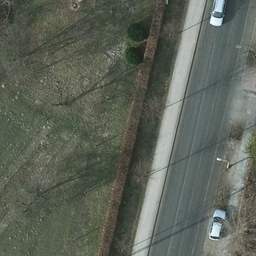car: (208, 208, 226, 242), (208, 1, 225, 26)
